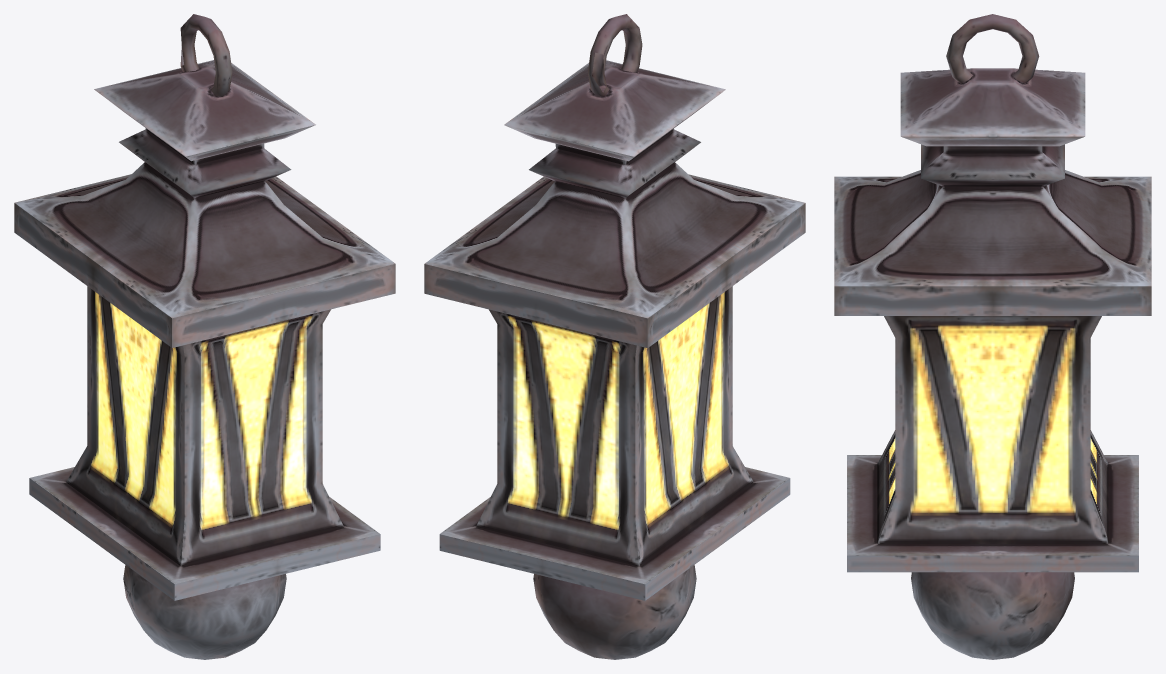
File: lamp.glb
3 views of the same model, side by side, from view 1: azimuth 30°, elevation 25°; view 2: azimuth 150°, elevation 25°; view 3: azimuth 270°, elevation 25° (orthographic).
Visible parts, largest first — view 1: Object_2; view 2: Object_2; view 3: Object_2.
Part boxes in pixels (box(x1,y1,x2,y2)): Object_2: box(14, 14, 395, 659); Object_2: box(424, 14, 805, 659); Object_2: box(834, 14, 1151, 659).
Bounding box in the file's own units: 1.01 × 2.74 × 1.23.
Materials: 1 (1 with a texture image).
